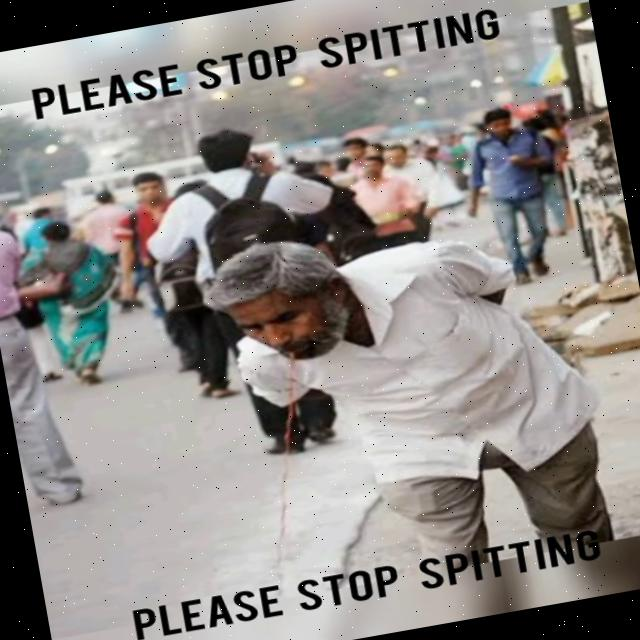spit: (215, 248, 362, 623)
